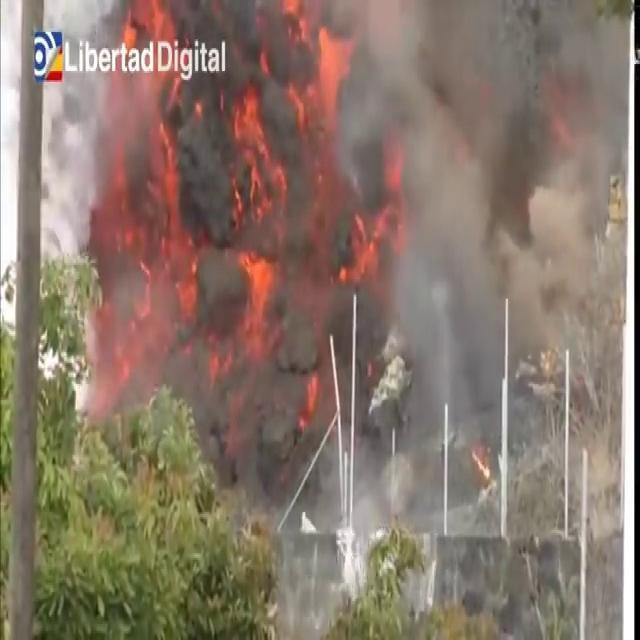Fire: (103, 0, 344, 364)
Smoke: (344, 0, 624, 493)
